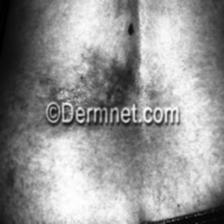Unclassified: (48, 54, 134, 102), (0, 157, 16, 188), (124, 16, 136, 36)
